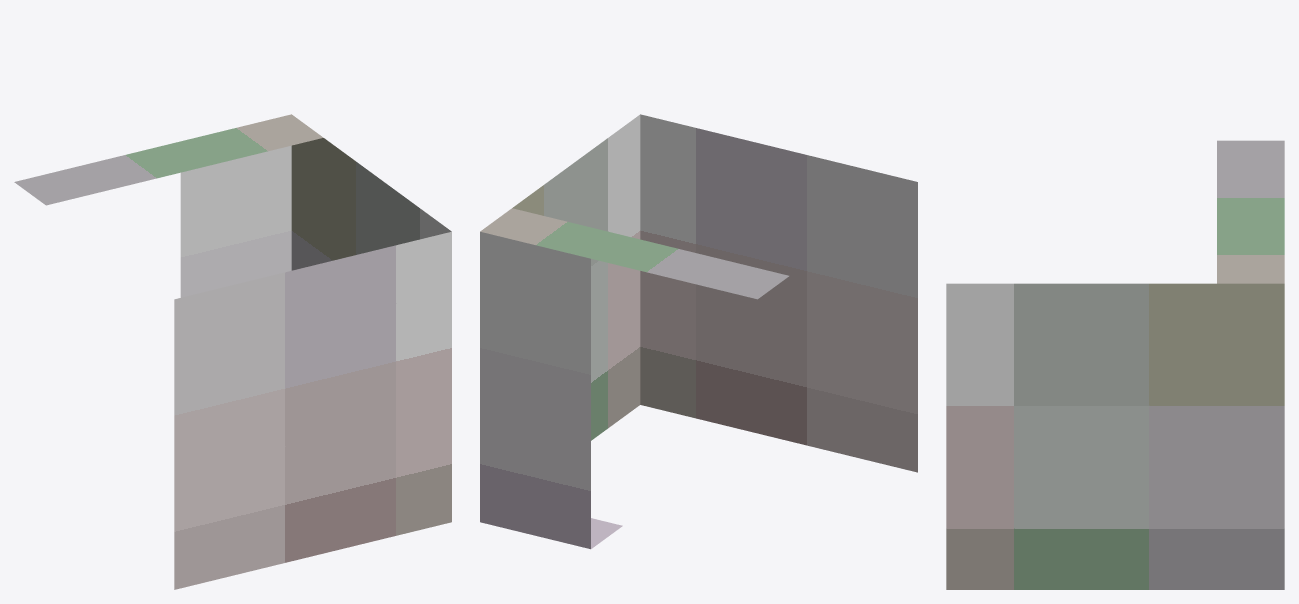
Rendered from disco_ball.obj.
The picture shows the model from 3 angles, left to right: view 1: azimuth 30°, elevation 25°; view 2: azimuth 150°, elevation 25°; view 3: azimuth 270°, elevation 25°; orthographic projection. The views are drawn at different scales.
Visible parts, largest first — view 1: model; view 2: model; view 3: model.
Part boxes in pixels (left/top/right/bottom): model: left=14, top=114, right=451, bottom=589; model: left=480, top=114, right=917, bottom=549; model: left=946, top=140, right=1284, bottom=589.
Size of the model in its own units: 0.625 by 1 by 0.625.
